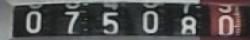digits: (24, 9, 42, 33), (101, 11, 119, 33), (142, 9, 158, 33), (219, 14, 235, 36), (64, 11, 79, 33), (180, 16, 196, 36)
